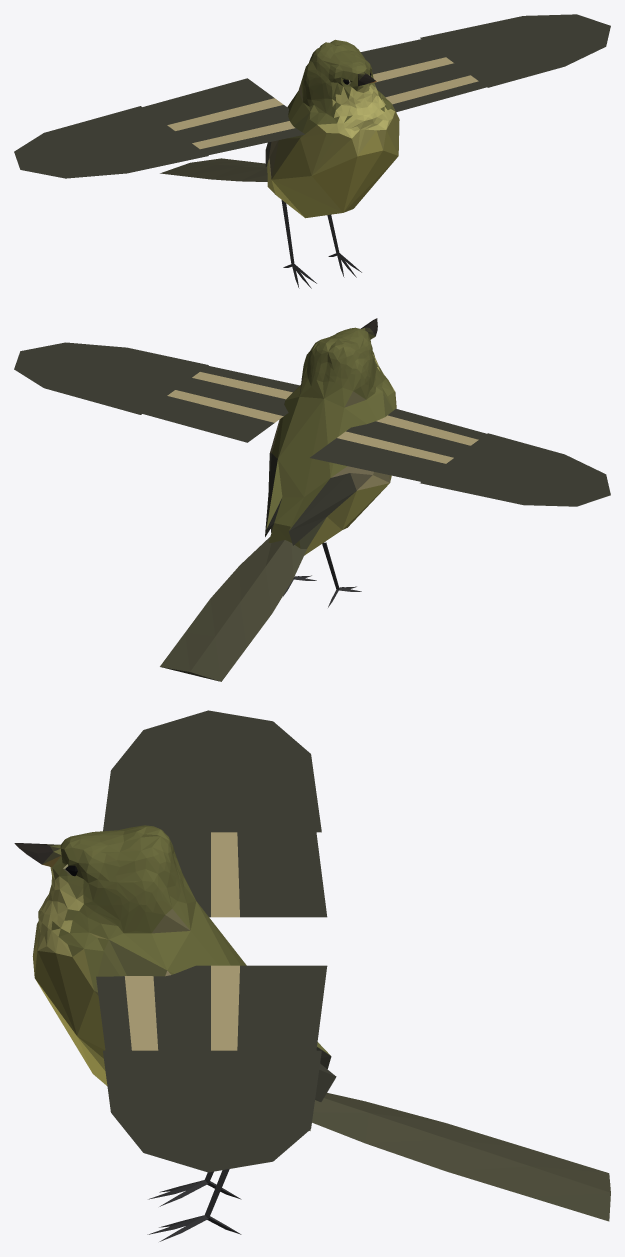
Rendered from flycatcher.glb.
3 views of the same model, one above another, from view 1: azimuth 30°, elevation 25°; view 2: azimuth 150°, elevation 25°; view 3: azimuth 270°, elevation 25° (orthographic). The views are drawn at different scales.
Visible parts, largest first — view 1: lod0; view 2: lod0; view 3: lod0.
Boxes of the visible parts, box(x1,y1,x2,y2) form: lod0: box(14, 14, 610, 288); lod0: box(14, 318, 610, 681); lod0: box(14, 710, 610, 1241).
Size of what is drawn, in the model's own units: 0.21 by 0.0817 by 0.1147.
